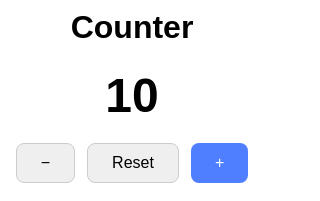
Test: Counter › resets count to initial value
This screenshot has width=320, height=201.
Step 1. Click the button with test id "increment" → {"x": 220, "y": 163}, box [191, 143, 248, 183]
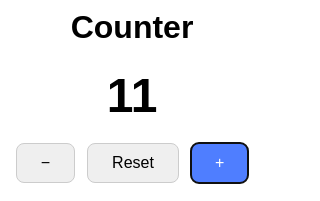
Step 2. Click the button with test id "reset" → {"x": 133, "y": 163}, box [87, 143, 179, 183]
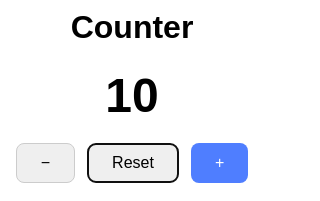
Now the text with test id "count" reads "10", box [105, 69, 159, 122]
